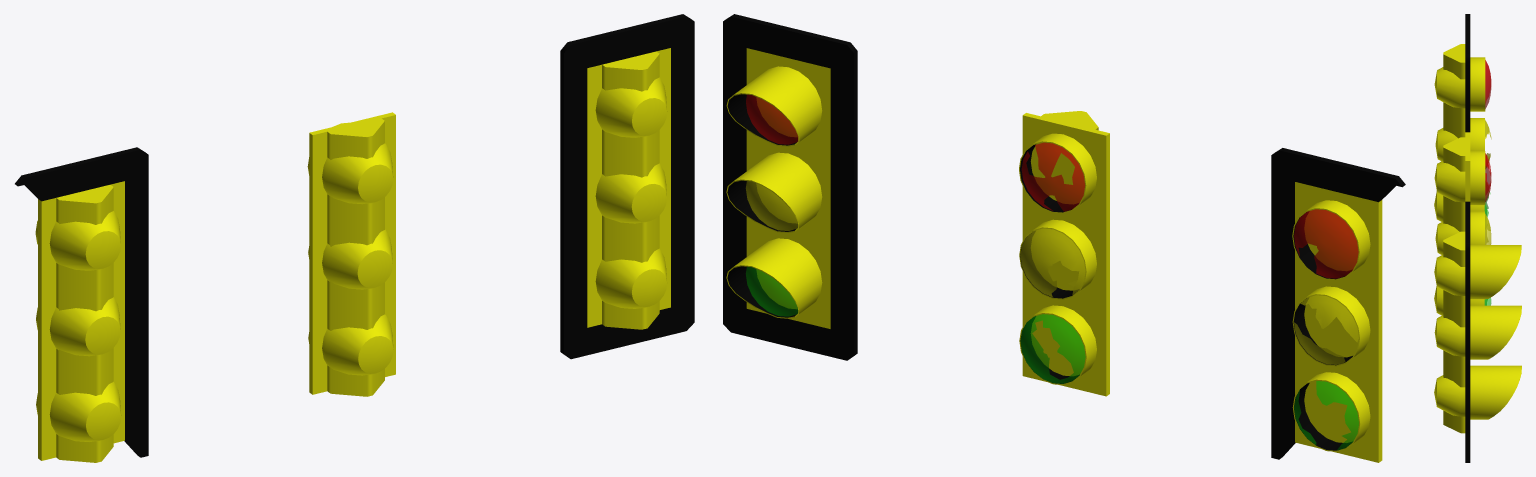
File: Traffic Light.fbx
The picture shows the model from 3 angles, left to right: view 1: azimuth 30°, elevation 25°; view 2: azimuth 150°, elevation 25°; view 3: azimuth 270°, elevation 25°; orthographic projection. The views are drawn at different scales.
Visible parts, largest first — view 1: TrafficLightNew, TrafficLightBroken, TrafficLightOld, Old_Housing_6, Old_Housing_4, NewHousing1, NewHousing3, NewHousing2, Old_Housing_1, Old_Housing_3, Old_Housing_5, Old_Housing_2; view 2: TrafficLightNew, TrafficLightBroken, TrafficLightOld, NewHousing3, NewHousing2, NewHousing1, Red_Light_3, Yellow_Light_2, Green_Light_2, Red_Light_2, Old_Housing_1, Old_Housing_4 (+9 smaller); view 3: TrafficLightNew, NewHousing3, NewHousing2, NewHousing1, TrafficLightBroken, Old_Housing_1, Old_Housing_4, TrafficLightOld, Old_Housing_2, Old_Housing_5, Old_Housing_6, Old_Housing_3 (+4 smaller).
Part boxes in pixels (bbox=[...]): TrafficLightNew: bbox=[560, 14, 694, 359]; TrafficLightBroken: bbox=[15, 147, 148, 462]; TrafficLightOld: bbox=[309, 112, 395, 396]; Old_Housing_6: bbox=[36, 381, 121, 441]; Old_Housing_4: bbox=[35, 211, 120, 270]; NewHousing1: bbox=[595, 77, 667, 137]; NewHousing3: bbox=[595, 248, 667, 308]; NewHousing2: bbox=[595, 163, 666, 223]; Old_Housing_1: bbox=[307, 122, 393, 204]; Old_Housing_3: bbox=[308, 314, 393, 375]; Old_Housing_5: bbox=[36, 297, 120, 356]; Old_Housing_2: bbox=[308, 229, 392, 289]; TrafficLightNew: bbox=[723, 14, 857, 360]; TrafficLightBroken: bbox=[1271, 148, 1405, 462]; TrafficLightOld: bbox=[1022, 111, 1109, 396]; NewHousing3: bbox=[726, 238, 822, 318]; NewHousing2: bbox=[726, 152, 822, 232]; NewHousing1: bbox=[726, 66, 822, 146]; Red_Light_3: bbox=[1294, 209, 1358, 278]; Yellow_Light_2: bbox=[1020, 228, 1085, 297]; Green_Light_2: bbox=[1020, 314, 1085, 383]; Red_Light_2: bbox=[1021, 142, 1085, 211]; Old_Housing_1: bbox=[1019, 133, 1096, 213]; Old_Housing_4: bbox=[1292, 200, 1370, 280]; TrafficLightNew: bbox=[1443, 201, 1470, 462]; NewHousing3: bbox=[1434, 365, 1521, 419]; NewHousing2: bbox=[1434, 305, 1521, 359]; NewHousing1: bbox=[1434, 245, 1521, 299]; TrafficLightBroken: bbox=[1443, 14, 1470, 138]; Old_Housing_1: bbox=[1434, 151, 1485, 205]; Old_Housing_4: bbox=[1434, 57, 1485, 111]; TrafficLightOld: bbox=[1443, 132, 1470, 231]; Old_Housing_2: bbox=[1435, 211, 1484, 254]; Old_Housing_5: bbox=[1435, 118, 1484, 161]; Old_Housing_6: bbox=[1434, 191, 1484, 221]; Old_Housing_3: bbox=[1434, 286, 1484, 315].
Size of the model in its own units: 20.15 by 8.95 by 3.21.
